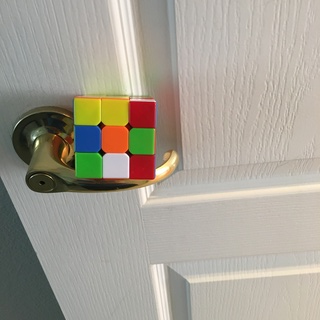face: (73, 97, 157, 182)
